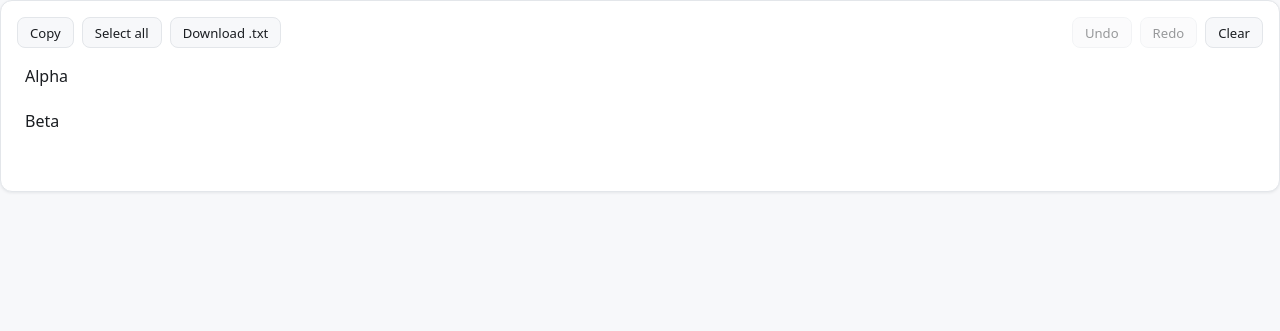
TranscriptPanel › select-all shows a merged read-only view, ready to go back
The width and height of the screenshot is (1280, 331).
Click the button "Select all" at (122, 33), box [82,17,162,48]
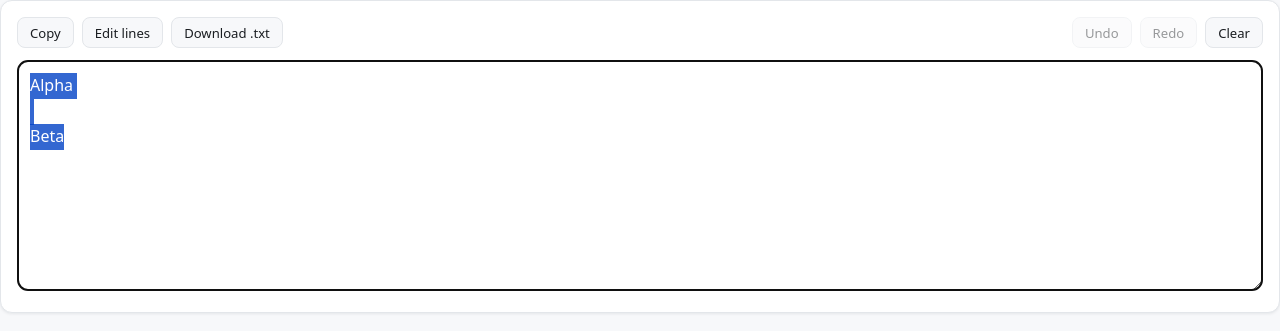
Click the button "Edit lines" at (122, 33), box [82,17,163,48]
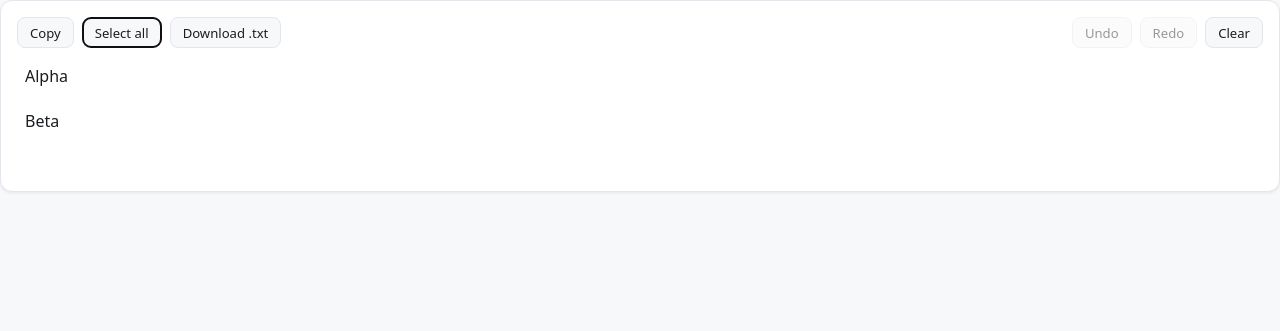
Now the text box named "Transcript part 1" is shown, box [17,60,1263,92]
